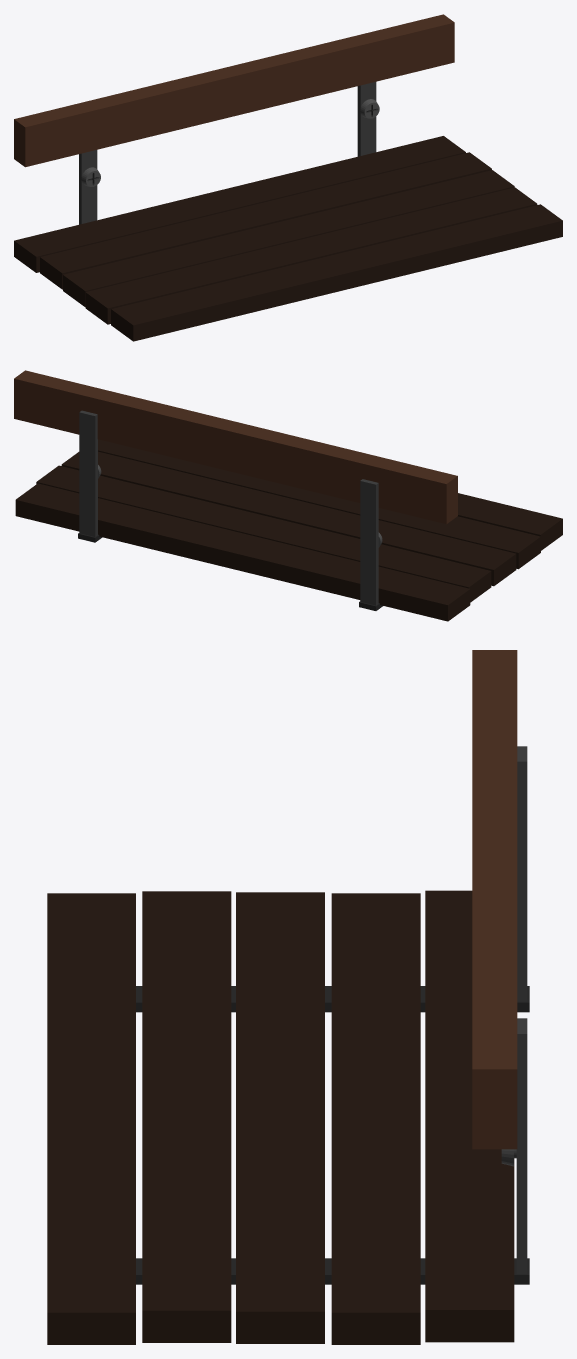
Rendered from Large Wall Shelf.fbx.
3 views of the same model, one above another, from view 1: azimuth 30°, elevation 25°; view 2: azimuth 150°, elevation 25°; view 3: azimuth 270°, elevation 25° (orthographic). The views are drawn at different scales.
Parts seen in each view (by area): view 1: Large Wall Shelf; view 2: Large Wall Shelf; view 3: Large Wall Shelf.
Boxes of the visible parts, x1,y1,x2,y2 form: Large Wall Shelf: (14, 14, 562, 341); Large Wall Shelf: (14, 370, 562, 621); Large Wall Shelf: (47, 650, 529, 1344).
Size of the model in its own units: 139 by 43.05 by 67.12.
1 material, 1 textured.
